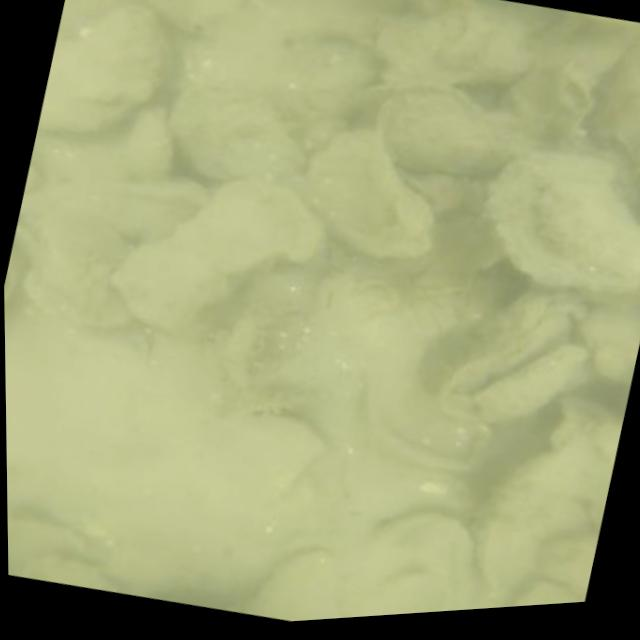Oyster-Closed: (196, 407, 328, 505), (367, 373, 491, 470), (552, 71, 590, 117)
Oyster-Indeterminate: (113, 176, 318, 323), (474, 411, 612, 584), (486, 152, 640, 296), (435, 286, 590, 422), (42, 3, 163, 131), (305, 128, 428, 253), (383, 87, 530, 174), (172, 84, 301, 179), (374, 11, 532, 86), (26, 213, 121, 325), (472, 345, 592, 420), (247, 550, 338, 621), (582, 300, 640, 382), (537, 539, 593, 593), (512, 581, 580, 606)
